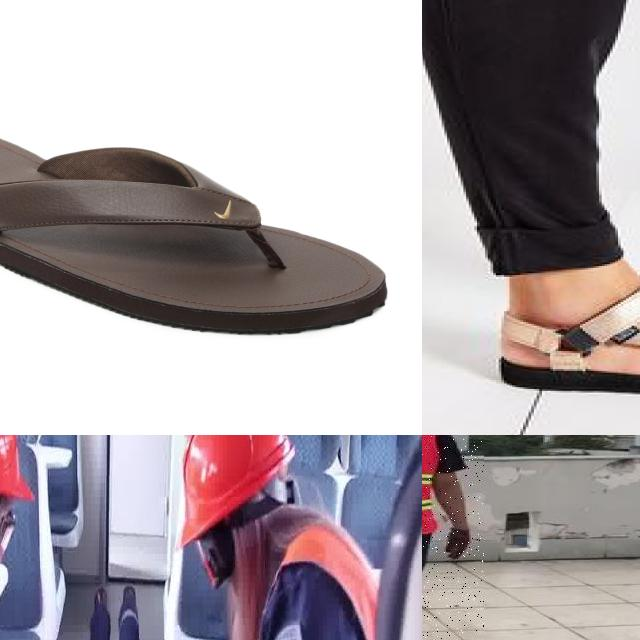Sandals: (0, 123, 389, 339), (500, 274, 640, 400)
boots: (95, 586, 108, 606), (123, 586, 136, 604)
glasses: (196, 496, 272, 587), (0, 510, 19, 566)
head_helmet: (179, 435, 293, 547)
person: (167, 435, 422, 640), (422, 435, 484, 640)
vest: (232, 509, 405, 640)
